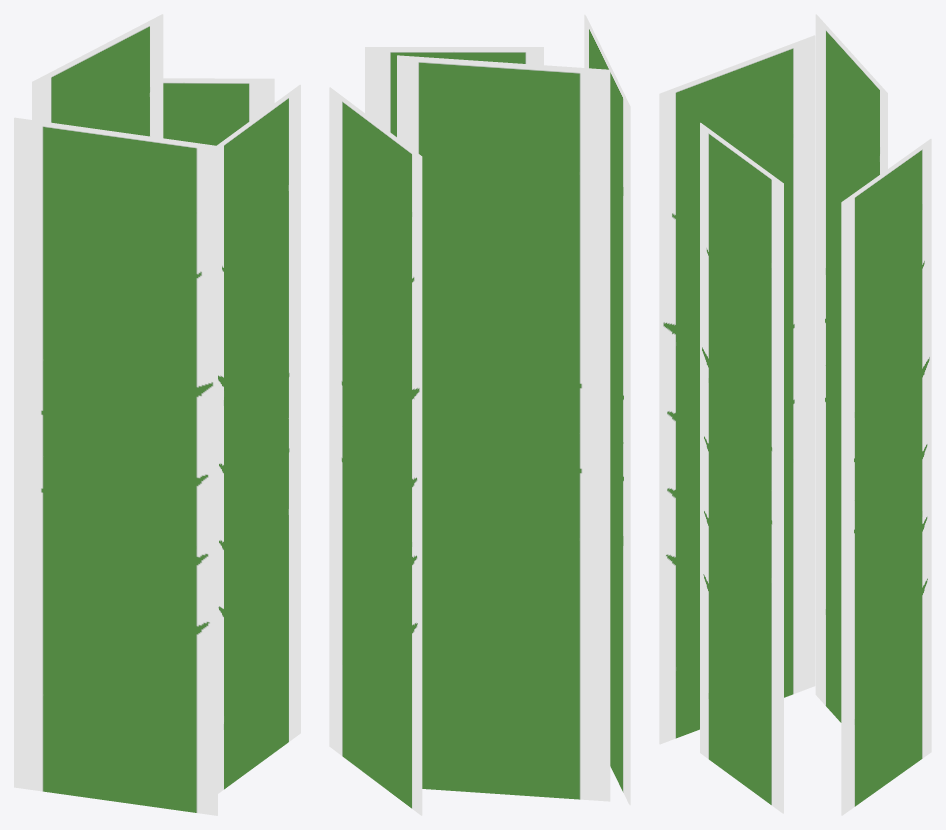
The model's file is Plant_01.fbx.
The picture shows the model from 3 angles, left to right: view 1: azimuth 30°, elevation 25°; view 2: azimuth 150°, elevation 25°; view 3: azimuth 270°, elevation 25°; orthographic projection. The views are drawn at different scales.
Parts seen in each view (by area): view 1: Plant_01_LOD0; view 2: Plant_01_LOD0; view 3: Plant_01_LOD0.
Part boxes in pixels (<box>): Plant_01_LOD0: <box>14,14,300,815</box>; Plant_01_LOD0: <box>329,14,630,815</box>; Plant_01_LOD0: <box>659,14,931,815</box>.
Size of what is drawn, in the model's own units: 0.2271 by 0.5536 by 0.2006.
